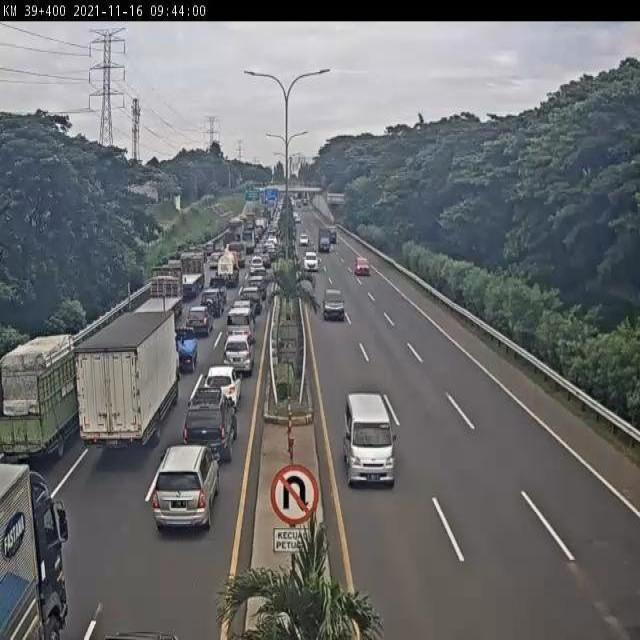Car: (152, 442, 222, 538), (182, 386, 239, 464), (202, 366, 242, 412), (223, 332, 255, 376), (185, 305, 212, 338), (176, 333, 198, 373), (200, 287, 227, 318), (226, 306, 254, 334), (322, 289, 345, 322), (238, 286, 262, 314), (247, 274, 266, 301), (303, 251, 319, 271), (354, 257, 370, 276), (250, 256, 264, 274), (299, 233, 309, 246), (328, 226, 336, 242)
Truck: (76, 314, 178, 452), (0, 464, 71, 640), (0, 329, 76, 459), (138, 270, 182, 319), (174, 252, 205, 292), (215, 248, 240, 286), (318, 226, 331, 253)
Van: (342, 391, 396, 486)
